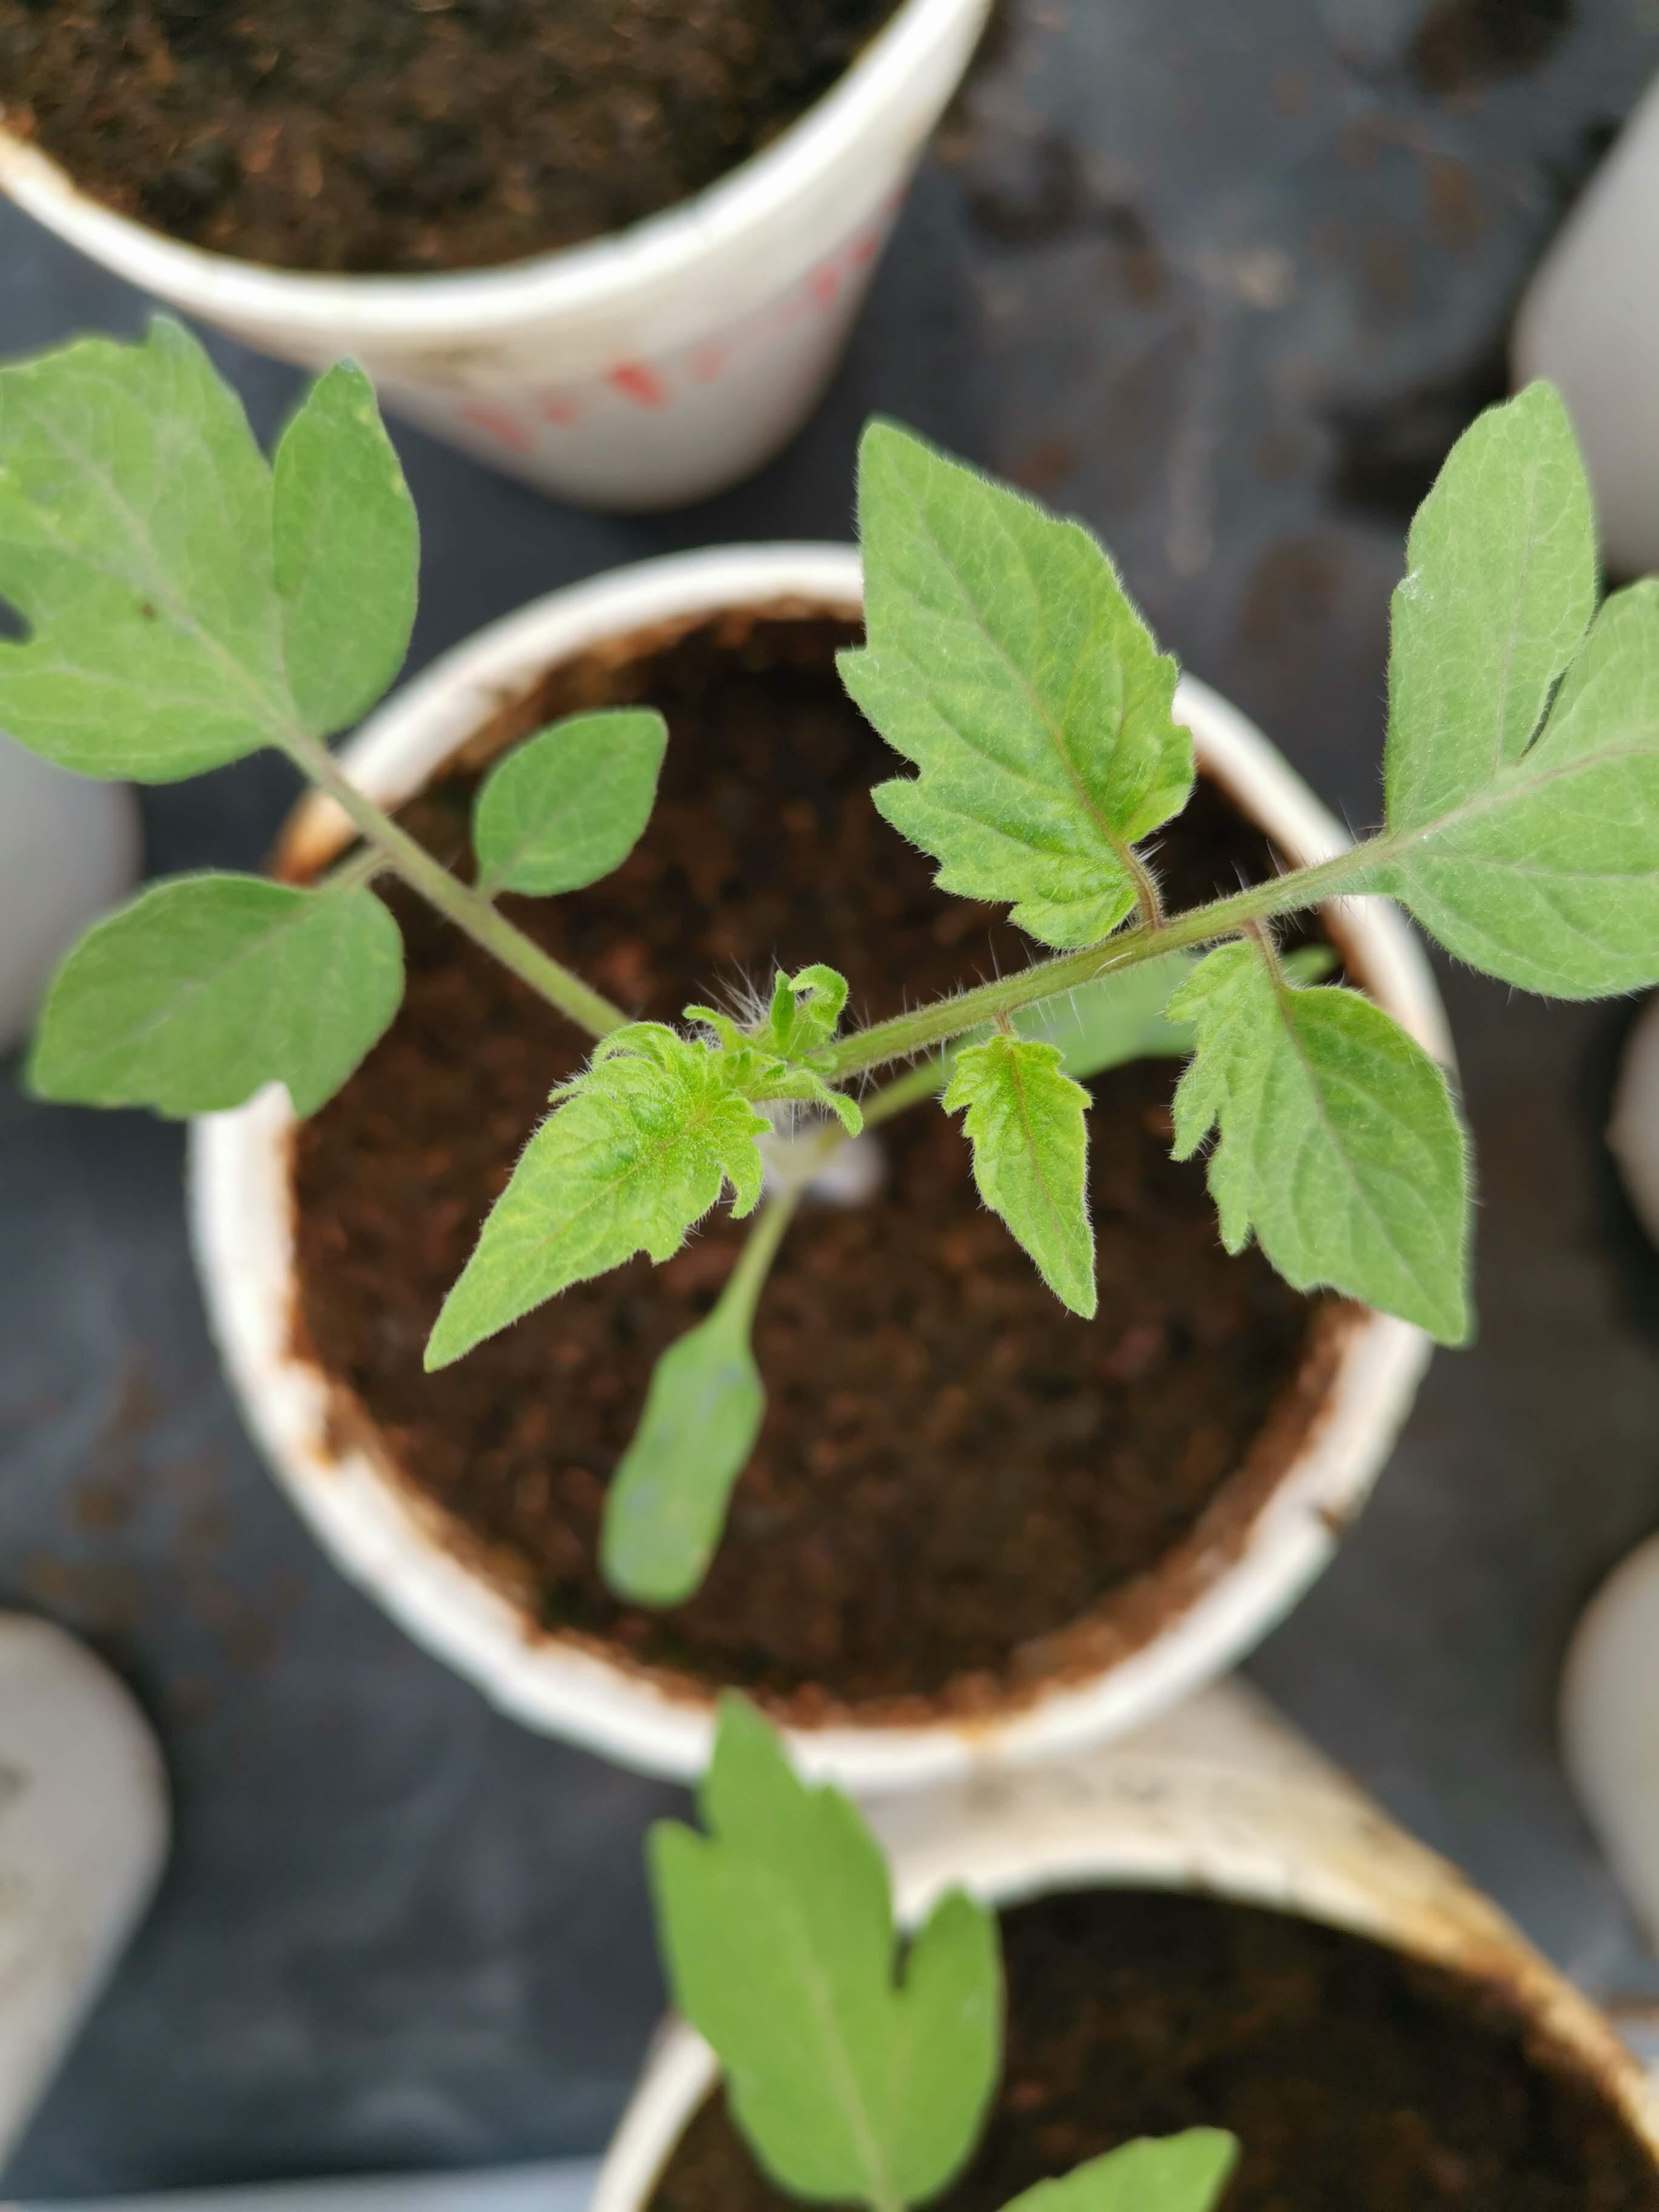Hoja: (1328, 380, 1657, 1001), (0, 315, 422, 784)
Hoja rugoso: (835, 420, 1194, 951), (423, 963, 863, 1372), (1166, 928, 1467, 1346), (943, 1036, 1096, 1322)
Pedunculo rugoso: (819, 831, 1424, 1080)
